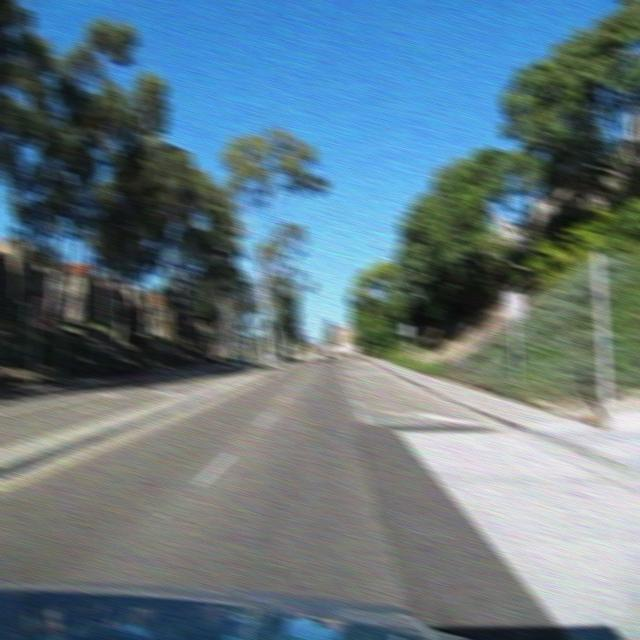speedLimit35: (502, 289, 524, 319)
